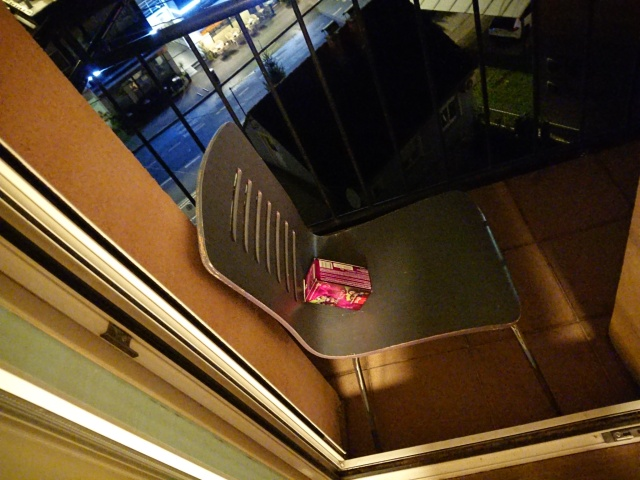Franck Black Currant Tea 60g: (300, 254, 374, 314)
